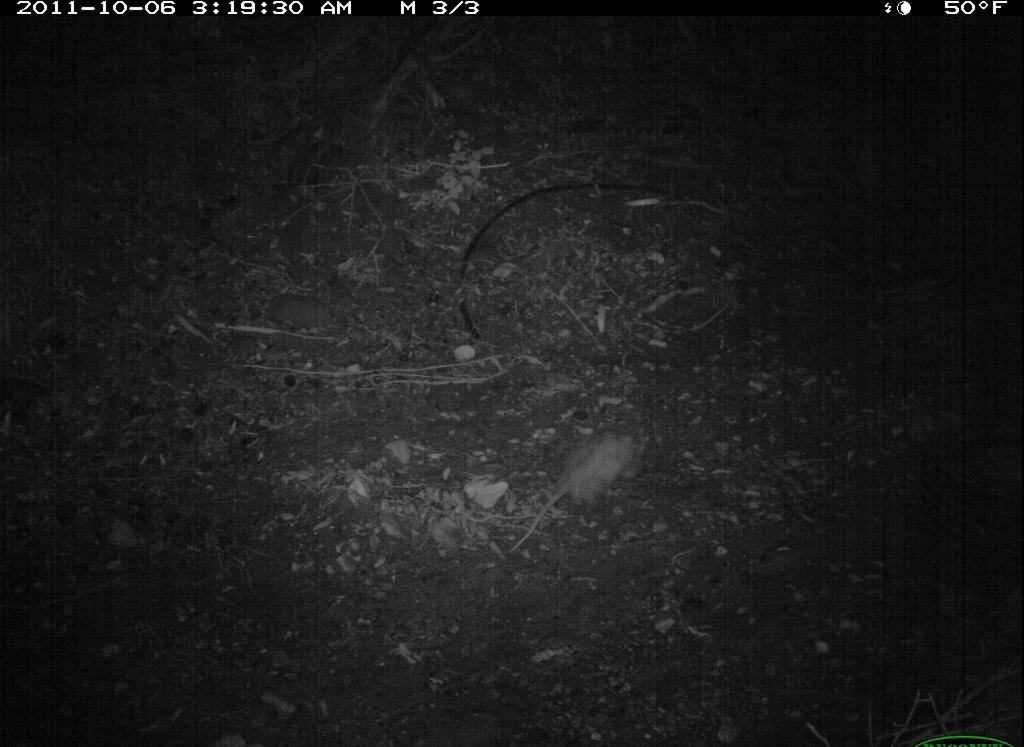opossum: (530, 420, 647, 543)
